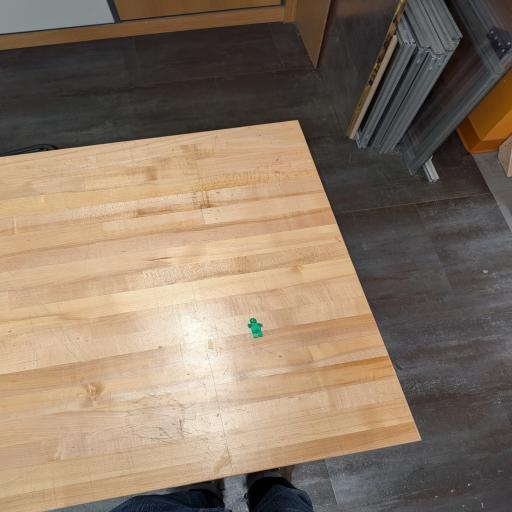Minifig: (248, 318, 262, 338)
